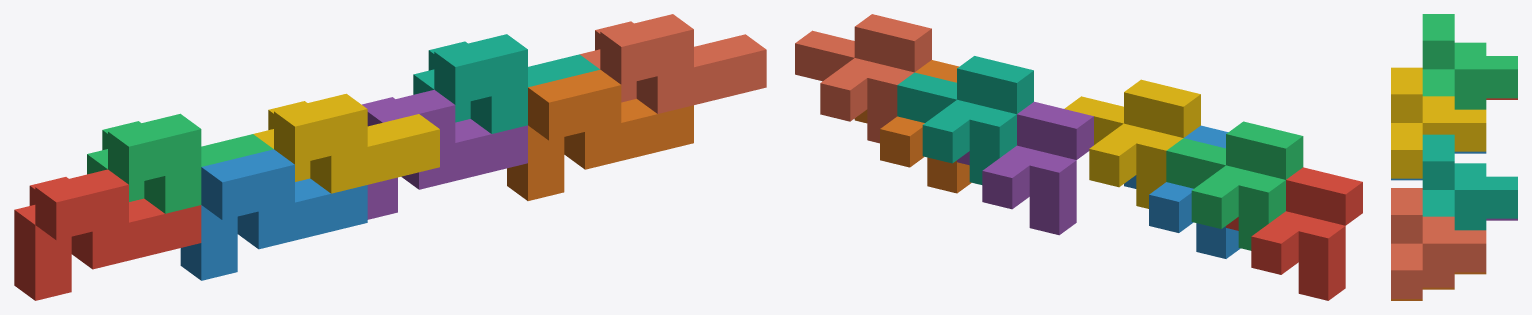
File: tiling.obj
3 views of the same model, side by side, from view 1: azimuth 30°, elevation 25°; view 2: azimuth 150°, elevation 25°; view 3: azimuth 270°, elevation 25° (orthographic). The views are drawn at different scales.
Parts seen in each view (by area): view 1: copy_1_domain_1, copy_1_domain_2, copy_1_domain_6, copy_1_domain_8, copy_1_domain_4, copy_1_domain_7, copy_1_domain_3, copy_1_domain_5; view 2: copy_1_domain_3, copy_1_domain_7, copy_1_domain_8, copy_1_domain_1, copy_1_domain_5, copy_1_domain_4, copy_1_domain_2, copy_1_domain_6; view 3: copy_1_domain_8, copy_1_domain_3, copy_1_domain_7, copy_1_domain_4, copy_1_domain_6, copy_1_domain_2.
Part boxes in pixels (x1,y1,x2,y2): copy_1_domain_1: (14, 169, 201, 300); copy_1_domain_2: (180, 149, 367, 280); copy_1_domain_6: (507, 69, 693, 200); copy_1_domain_8: (580, 14, 766, 113); copy_1_domain_4: (253, 93, 439, 193); copy_1_domain_7: (413, 34, 599, 133); copy_1_domain_3: (87, 113, 273, 213); copy_1_domain_5: (362, 89, 527, 219); copy_1_domain_3: (1166, 121, 1303, 250); copy_1_domain_7: (897, 56, 1033, 184); copy_1_domain_8: (795, 14, 931, 143); copy_1_domain_1: (1226, 167, 1362, 300); copy_1_domain_5: (957, 101, 1093, 235); copy_1_domain_4: (1064, 79, 1200, 208); copy_1_domain_2: (1124, 125, 1240, 258); copy_1_domain_6: (854, 60, 971, 193); copy_1_domain_8: (1391, 188, 1486, 298); copy_1_domain_3: (1422, 14, 1517, 109); copy_1_domain_7: (1422, 134, 1517, 230); copy_1_domain_4: (1391, 67, 1486, 178); copy_1_domain_6: (1391, 272, 1486, 300); copy_1_domain_2: (1391, 151, 1486, 180).
Bounding box in the file's own units: 19 × 4 × 4.
